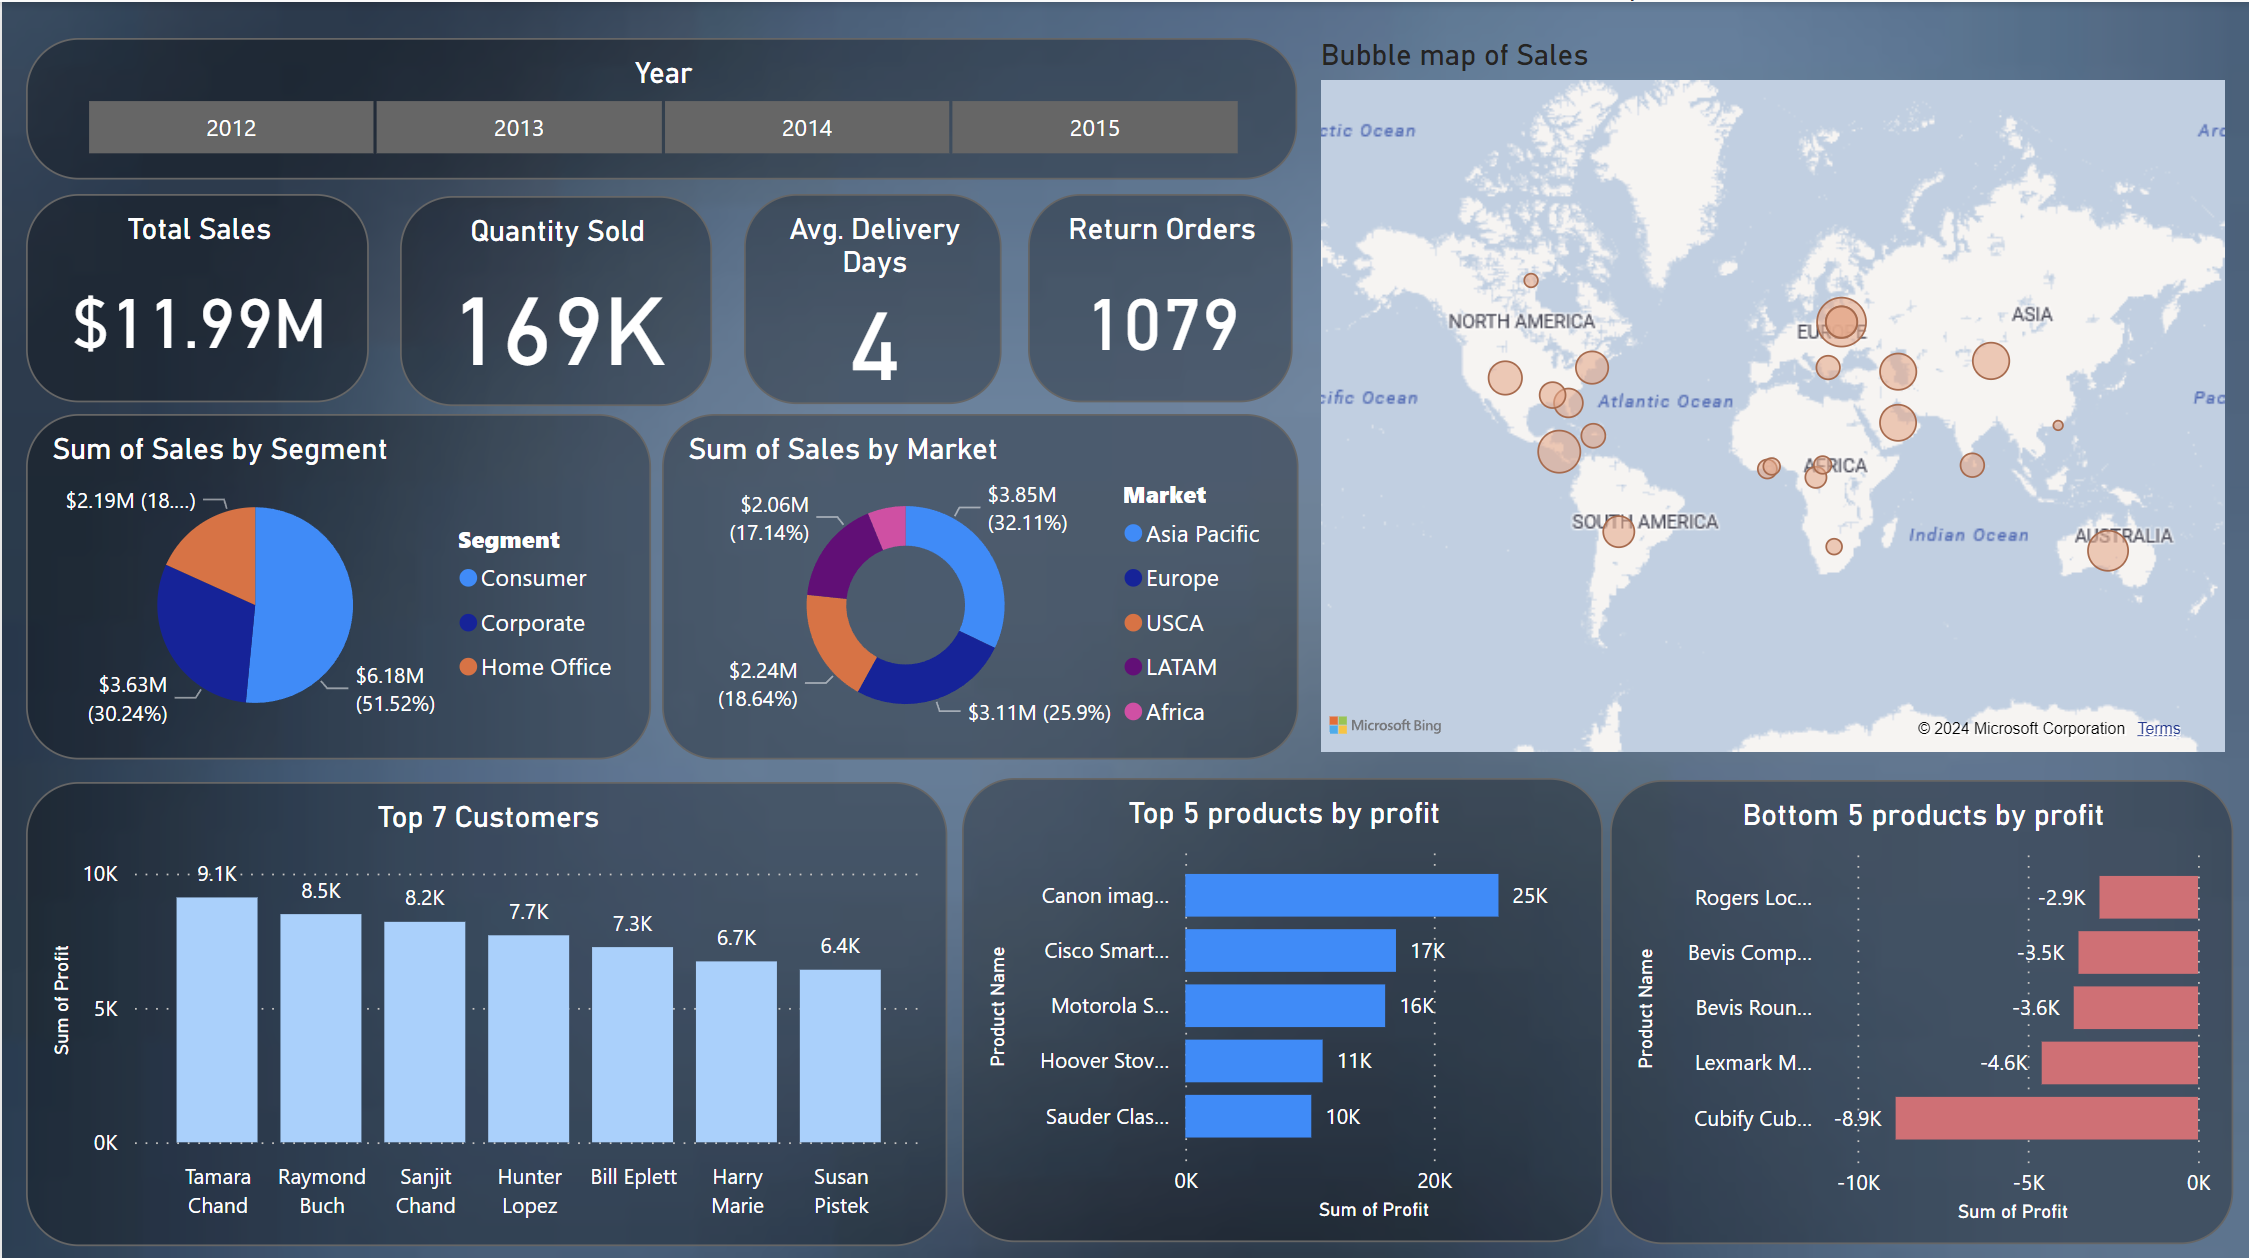

This screenshot's page, from the dashboard's own definition file:
{"tool":"powerbi","page":{"name":"Page 1","canvas":[1280,720],"ordinal":0},"visuals":[{"type":"card","title":"Total Sales","fields":{"Values":["Sum(Orders.Sales)"]},"box":[14,109.6,195.1,118.6],"z":0},{"type":"card","title":"Quantity Sold","fields":{"Values":["Sum(Orders.Quantity)"]},"box":[235.9,109.6,177.2,118.6],"z":1000},{"type":"card","title":"Avg. Delivery Days","fields":{"Values":["Avg(Orders.Delivery Days)"]},"box":[428.4,109.6,140.2,118.6],"z":2000},{"type":"slicer","title":"Year","fields":{"Values":["Orders.Year"]},"box":[14,20.4,722.9,80.3],"z":3000},{"type":"card","title":"Return Orders","fields":{"Values":["Sum(Returns.Return Status)"]},"box":[583.9,109.6,150.4,118.6],"z":4000},{"type":"map","title":"Bubble map of Sales","fields":{"Category":["Orders.Region"],"Size":["Sum(Orders.Sales)"]},"box":[744.5,20.4,524,410.5],"z":5000},{"type":"clusteredBarChart","title":"Top 5 products by profit","fields":{"Y":["Sum(Orders.Profit)"],"Category":["Orders.Product Name"]},"box":[545.7,441.8,364.6,263.9],"z":6000},{"type":"clusteredBarChart","title":"Bottom 5 products by profit","fields":{"Y":["Sum(Orders.Profit)"],"Category":["Orders.Product Name"]},"box":[914.1,442.4,354.4,263.9],"z":7000},{"type":"pieChart","fields":{"Category":["Orders.Segment"],"Y":["Sum(Orders.Sales)"]},"box":[14,234.6,355.7,196.3],"z":8000},{"type":"donutChart","fields":{"Y":["Sum(Orders.Sales)"],"Category":["Orders.Market"]},"box":[374.8,234.6,362.1,196.3],"z":9000},{"type":"clusteredColumnChart","title":"Top 7 Customers","fields":{"Y":["Sum(Orders.Profit)"],"Category":["Orders.Customer Name"]},"box":[14,443.7,524,263.9],"z":10000}]}

Visuals, with their boxes in screenshot pixels (x1, y1, x2, y2), scaled from the page's 1280x720 canvas onto the 2249x1258 screenshot:
"Total Sales" card: region(25, 191, 367, 399)
"Quantity Sold" card: region(414, 191, 726, 399)
"Avg. Delivery Days" card: region(753, 191, 999, 399)
"Year" slicer: region(25, 36, 1295, 176)
"Return Orders" card: region(1026, 191, 1290, 399)
"Bubble map of Sales" map: region(1308, 36, 2229, 753)
"Top 5 products by profit" clusteredBarChart: region(959, 772, 1599, 1233)
"Bottom 5 products by profit" clusteredBarChart: region(1606, 773, 2229, 1234)
pieChart - Orders.Segment x Sum(Orders.Sales): region(25, 410, 650, 753)
donutChart - Sum(Orders.Sales) x Orders.Market: region(659, 410, 1295, 753)
"Top 7 Customers" clusteredColumnChart: region(25, 775, 945, 1236)
